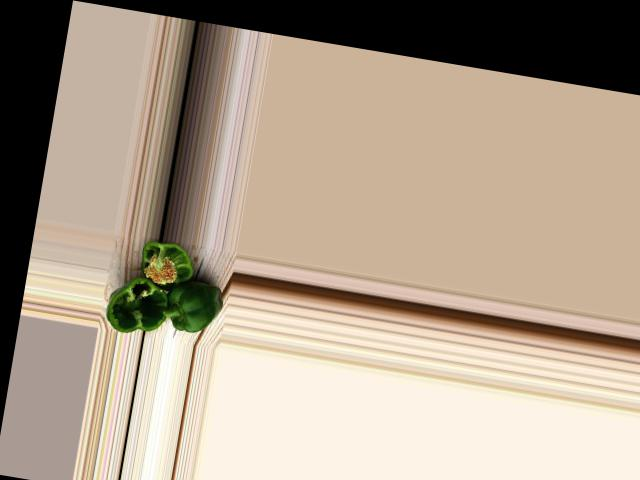bell_pepper: (126, 236, 201, 294)
